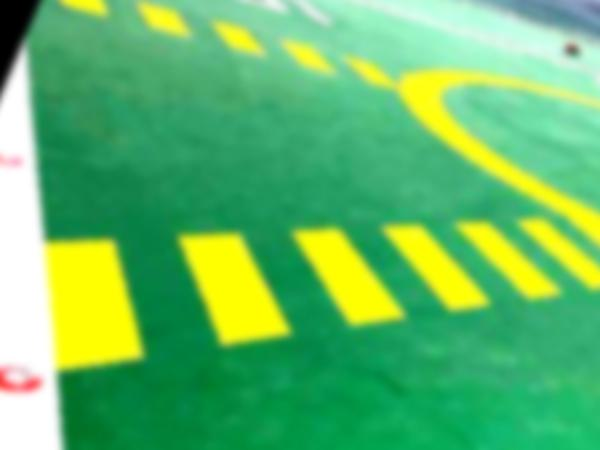Apron: (389, 37, 600, 259)
